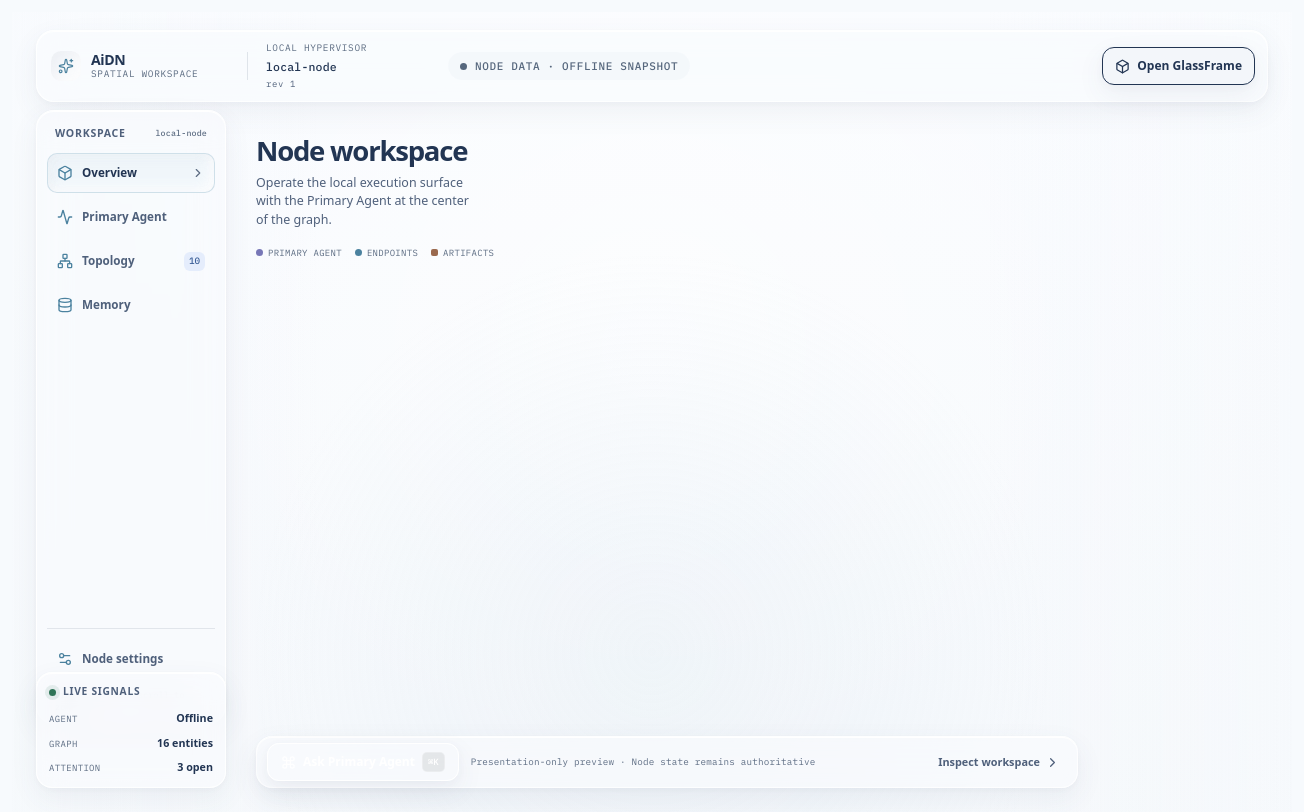
Spatial M1.3 hybrid renderer shell › makes offline Workspace evidence explicit while keeping controls usable
What coordinates should you click on to do the following:
click the button "Open GlassFrame"
I would click on:
 (1179, 66)
Its box is [1102,47,1255,85].
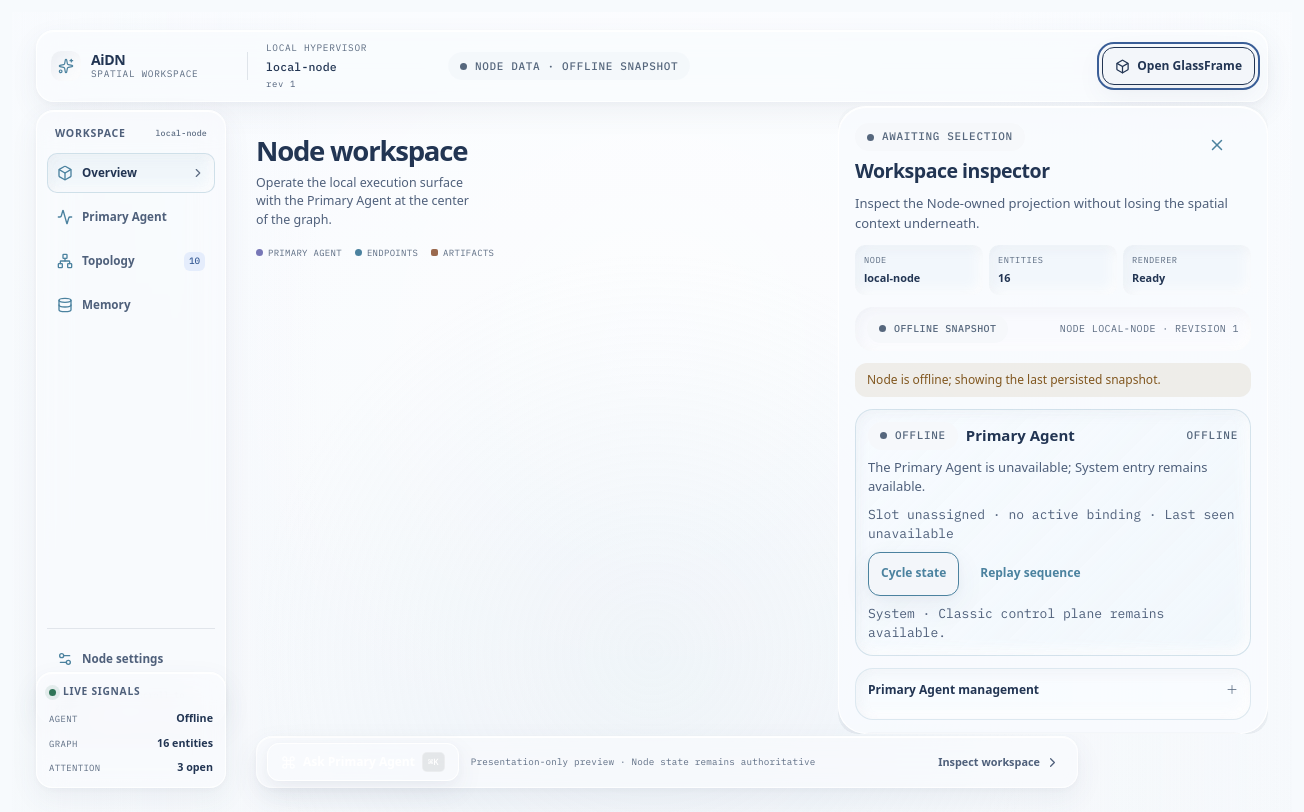
Expected: the text "Node data · Offline snapshot" is shown, [448,52,690,80]
Now the text "Node is offline; showing the last persisted snapshot." is shown, box [855,363,1251,397]
